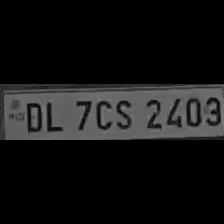0: (182, 93, 202, 126)
2: (140, 96, 162, 130)
3: (202, 93, 222, 127)
4: (162, 94, 182, 128)
7: (70, 97, 92, 131)
C: (92, 97, 112, 130)
D: (21, 98, 43, 132)
L: (42, 97, 66, 132)
S: (111, 97, 133, 130)
